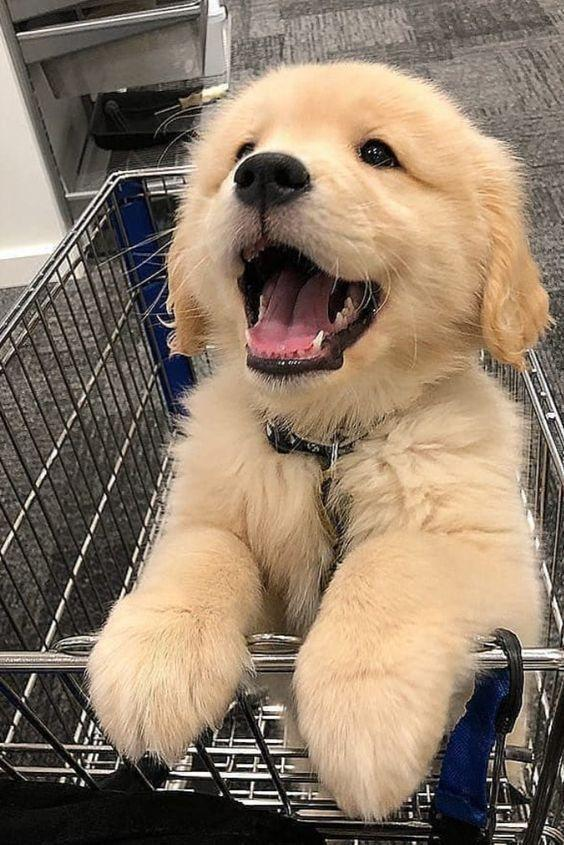puppy-dog: (80, 56, 555, 825)
